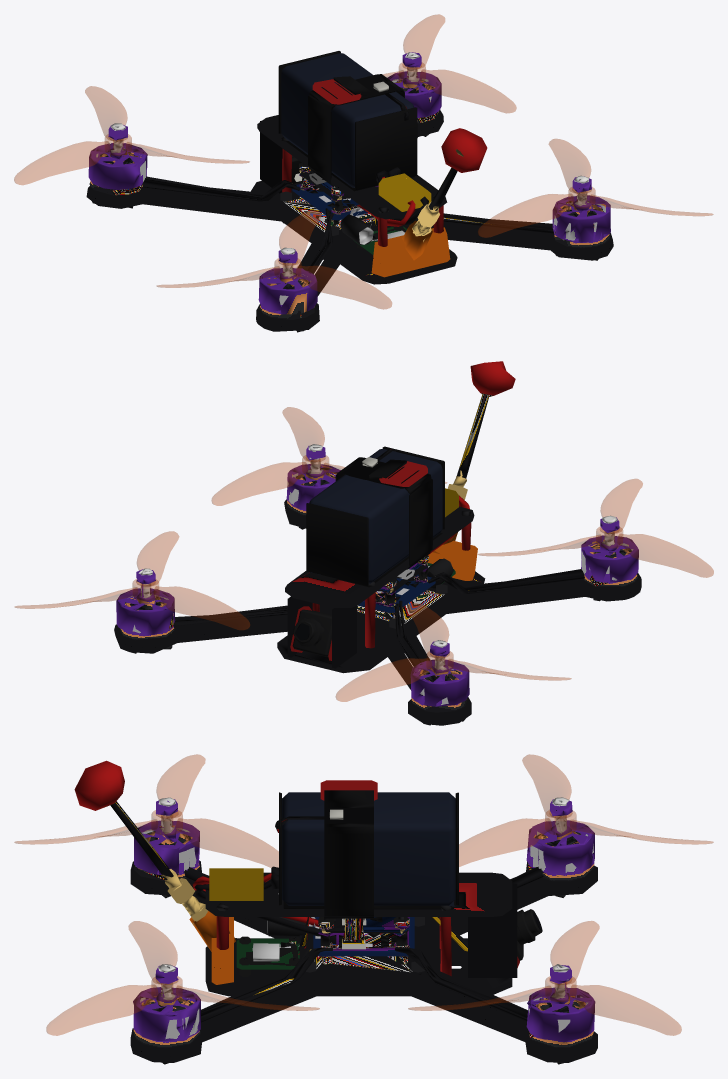
File: spectator-fpv-CcnBuiar.glb
3 renders of one model, top to bottom at view 1: azimuth 30°, elevation 25°; view 2: azimuth 150°, elevation 25°; view 3: azimuth 270°, elevation 25°, orthographic. The views are drawn at different scales.
Visible parts, largest first — view 1: Body, RotorFrontLeft, RotorRearRight, RotorRearLeft, RotorFrontRight; view 2: Body, RotorFrontRight, RotorFrontLeft, RotorRearLeft, RotorRearRight, Camera; view 3: Body, RotorFrontRight, RotorRearRight, RotorRearLeft, RotorFrontLeft, Camera.
Boxes of the visible parts, left/top/right/bottom form: Body: left=86, top=51, right=613, bottom=332; RotorFrontLeft: left=14, top=86, right=249, bottom=184; RotorRearRight: left=478, top=139, right=713, bottom=237; RotorRearLeft: left=157, top=210, right=391, bottom=309; RotorFrontRight: left=383, top=14, right=516, bottom=113; Body: left=114, top=361, right=641, bottom=725; RotorFrontRight: left=15, top=531, right=249, bottom=629; RotorFrontLeft: left=335, top=603, right=571, bottom=701; RotorRearLeft: left=478, top=479, right=713, bottom=577; RotorRearRight: left=211, top=407, right=446, bottom=505; Camera: left=292, top=609, right=331, bottom=656; Body: left=74, top=760, right=597, bottom=1064; RotorFrontRight: left=408, top=921, right=681, bottom=1035; RotorRearRight: left=46, top=921, right=319, bottom=1035; RotorRearLeft: left=14, top=754, right=278, bottom=867; RotorFrontLeft: left=459, top=754, right=713, bottom=866; Camera: left=517, top=909, right=542, bottom=960.
Bounding box in the file's own units: 0.2668 × 0.0929 × 0.2828.
4 materials, 4 textured.
